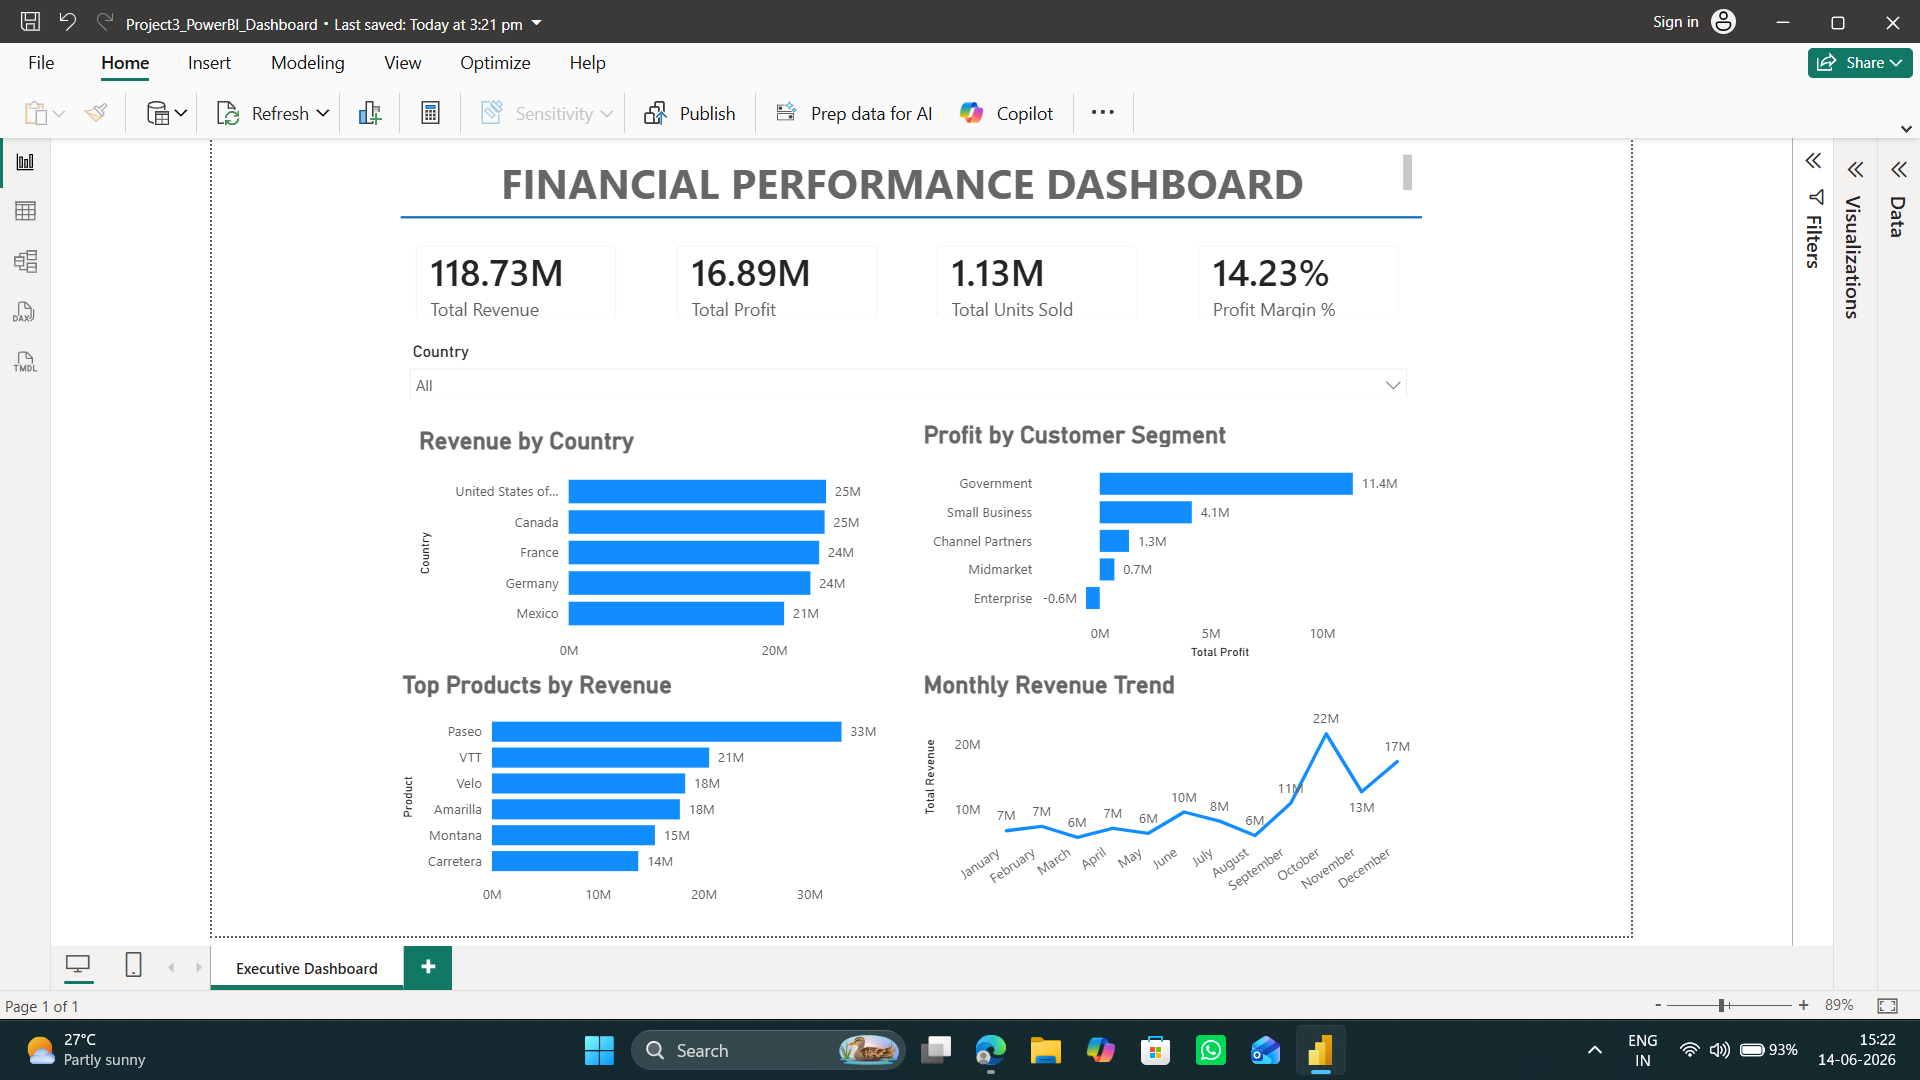

Layout of this report page (visuals, bound fields, positions):
{"tool":"powerbi","page":{"name":"Executive Dashboard","canvas":[1280,720],"ordinal":0},"visuals":[{"type":"cardVisual","fields":{"Data":["financials.Total Revenue"]},"box":[167,80,215,100.2],"z":0},{"type":"slicer","fields":{"Values":["financials.Country"]},"box":[167.5,179.8,919.6,55],"z":1000},{"type":"cardVisual","fields":{"Data":["financials.Total Profit"]},"box":[402,80,215,100],"z":2000},{"type":"cardVisual","fields":{"Data":["financials.Total Units Sold"]},"box":[637,80,215,100],"z":3000},{"type":"cardVisual","fields":{"Data":["financials.Profit Margin %"]},"box":[872,80,215,100],"z":4000},{"type":"clusteredBarChart","title":"Revenue by Country","fields":{"Category":["financials.Country"],"Y":["financials.Total Revenue"]},"box":[167,260,450,220],"z":5000},{"type":"clusteredBarChart","title":"Profit by Customer Segment","fields":{"Category":["financials.Segment"],"Y":["financials.Total Profit"]},"box":[637,255,450,220],"z":6000},{"type":"clusteredBarChart","title":"Top Products by Revenue","fields":{"Category":["financials.Product"],"Y":["financials.Total Revenue"]},"box":[167,480,450,220],"z":7000},{"type":"lineChart","title":"Monthly Revenue Trend","fields":{"Category":["financials.Month Name"],"Y":["financials.Total Revenue"]},"box":[637,480,450,220],"z":8000},{"type":"textbox","box":[167,10,920,50],"z":9000},{"type":"shape","box":[170.2,64.8,920.8,12.2],"z":10000}]}

Visuals, with their boxes on the page's 1280x720 design canvas (x1, y1, x2, y2). These are canvas units, not pixel positions in the 1920x1080 screenshot, which may show the page scaled, cropped or inside an application window:
cardVisual - financials.Total Revenue: <bbox>167, 80, 382, 180</bbox>
slicer - financials.Country: <bbox>168, 180, 1087, 235</bbox>
cardVisual - financials.Total Profit: <bbox>402, 80, 617, 180</bbox>
cardVisual - financials.Total Units Sold: <bbox>637, 80, 852, 180</bbox>
cardVisual - financials.Profit Margin %: <bbox>872, 80, 1087, 180</bbox>
"Revenue by Country" clusteredBarChart: <bbox>167, 260, 617, 480</bbox>
"Profit by Customer Segment" clusteredBarChart: <bbox>637, 255, 1087, 475</bbox>
"Top Products by Revenue" clusteredBarChart: <bbox>167, 480, 617, 700</bbox>
"Monthly Revenue Trend" lineChart: <bbox>637, 480, 1087, 700</bbox>
textbox: <bbox>167, 10, 1087, 60</bbox>
shape: <bbox>170, 65, 1091, 77</bbox>
